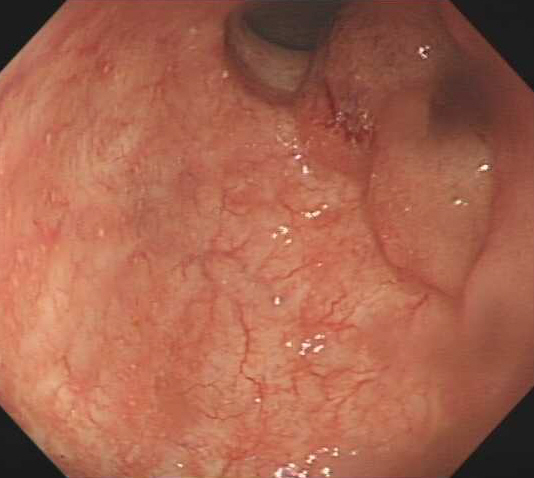adenoma: (309, 1, 497, 299)
